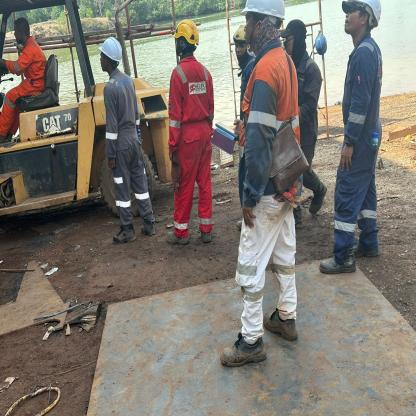bota: (218, 332, 268, 369), (318, 245, 358, 276), (263, 308, 299, 340), (308, 182, 328, 215), (112, 224, 136, 245), (351, 242, 380, 259), (164, 230, 191, 245), (138, 221, 160, 236), (198, 226, 212, 245)
